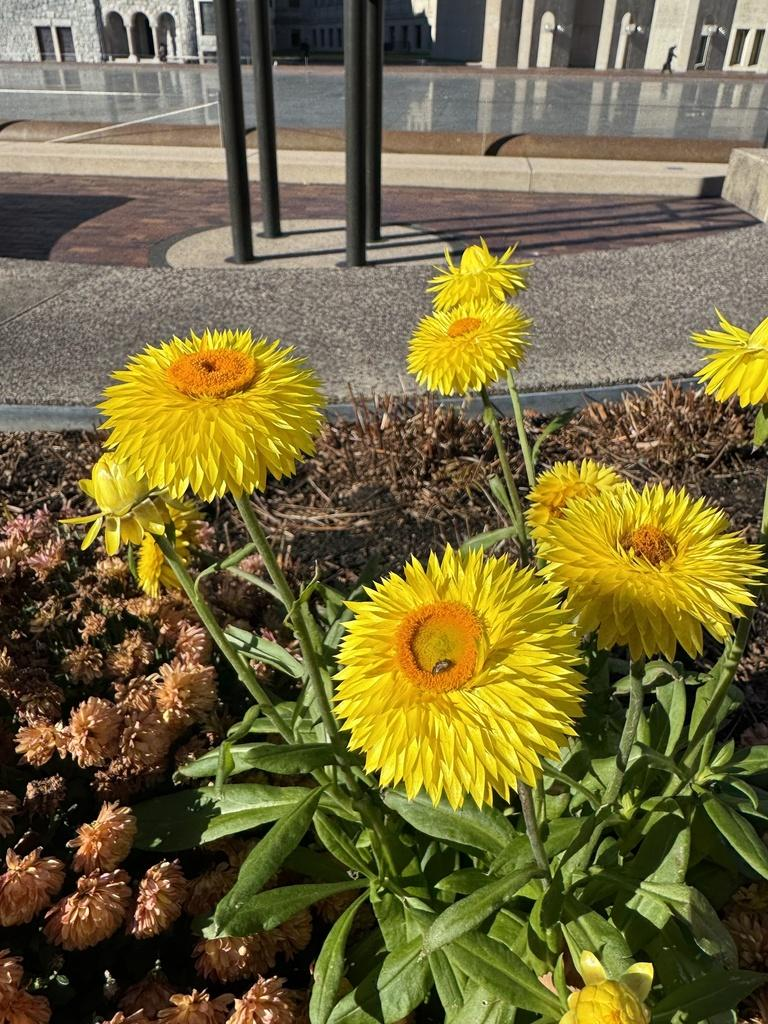plant_bugs: (426, 653, 456, 678)
